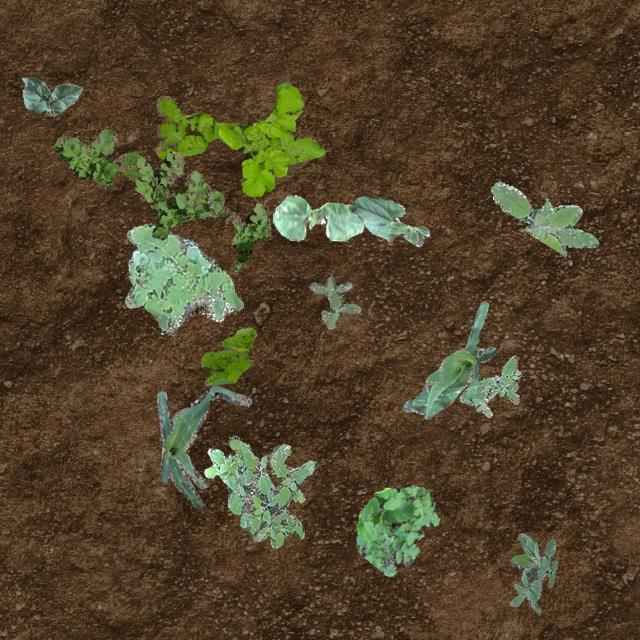crop: (156, 384, 250, 508), (402, 300, 496, 418), (272, 193, 364, 240), (348, 194, 428, 246), (20, 76, 81, 116)
weed: (53, 130, 270, 270), (156, 81, 324, 196), (124, 222, 242, 332), (204, 438, 316, 548), (490, 182, 598, 256), (356, 484, 438, 576), (508, 532, 556, 612), (458, 356, 520, 416), (200, 326, 256, 384), (308, 276, 360, 328)
